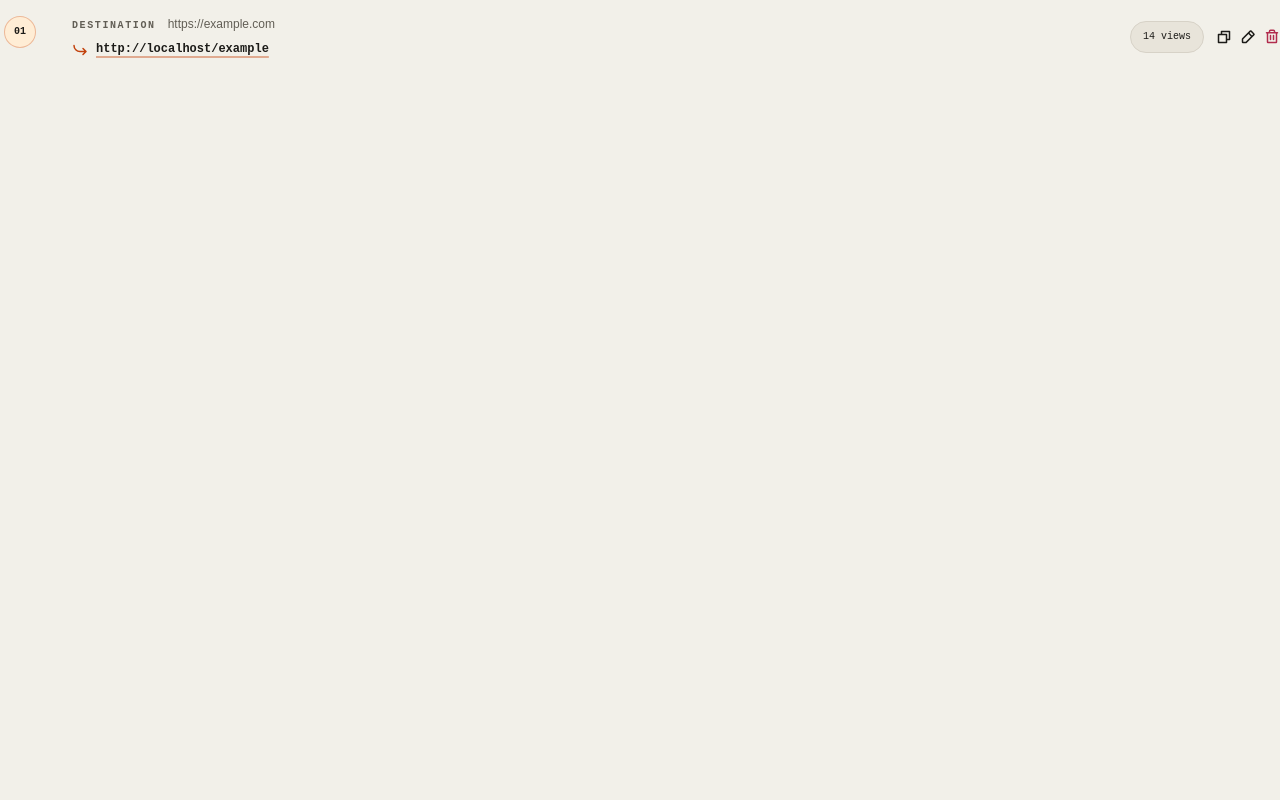
Test: LinksList a11y › has no accessibility violations when delete dialog is open
Click the button named "Delete link http://localhost/example" at [1272, 37], box x1=1264 y1=29 x2=1279 y2=45
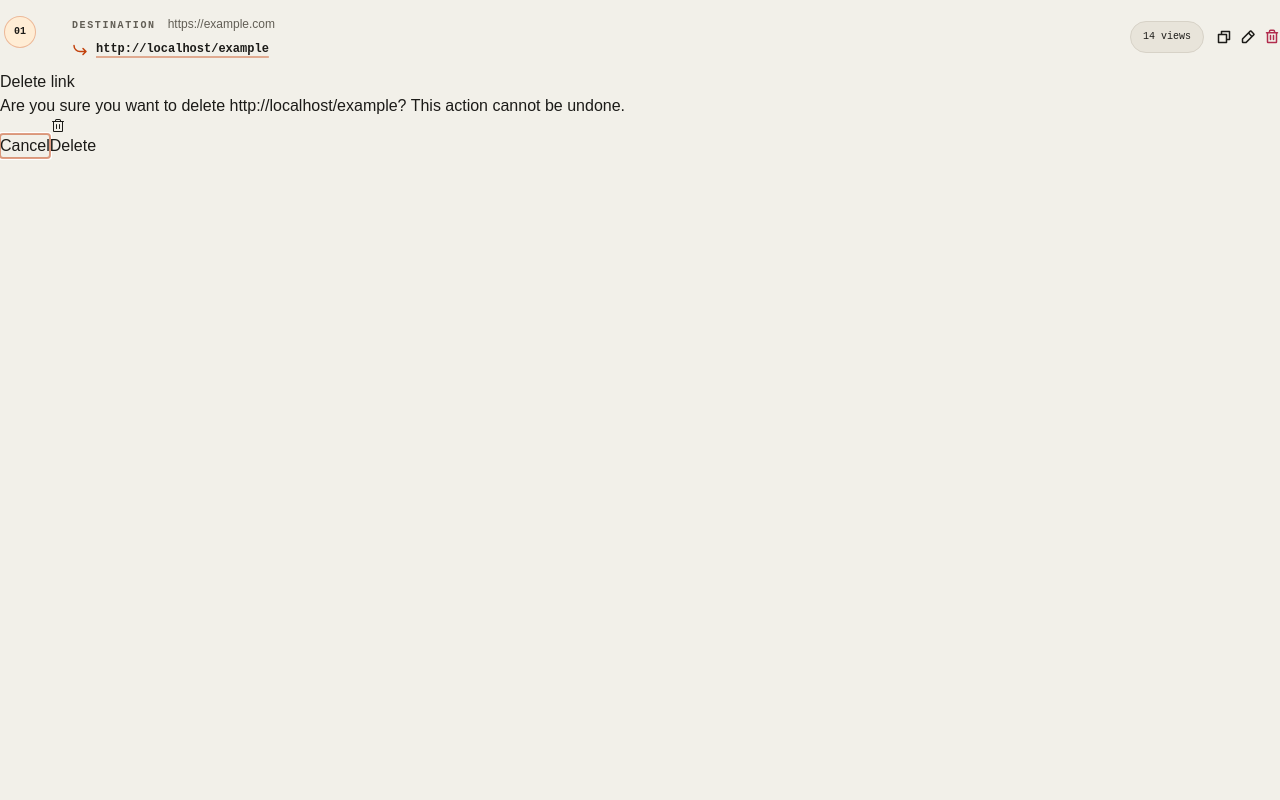
Now the dialog "Delete link" is shown, box x1=0 y1=73 x2=625 y2=158
